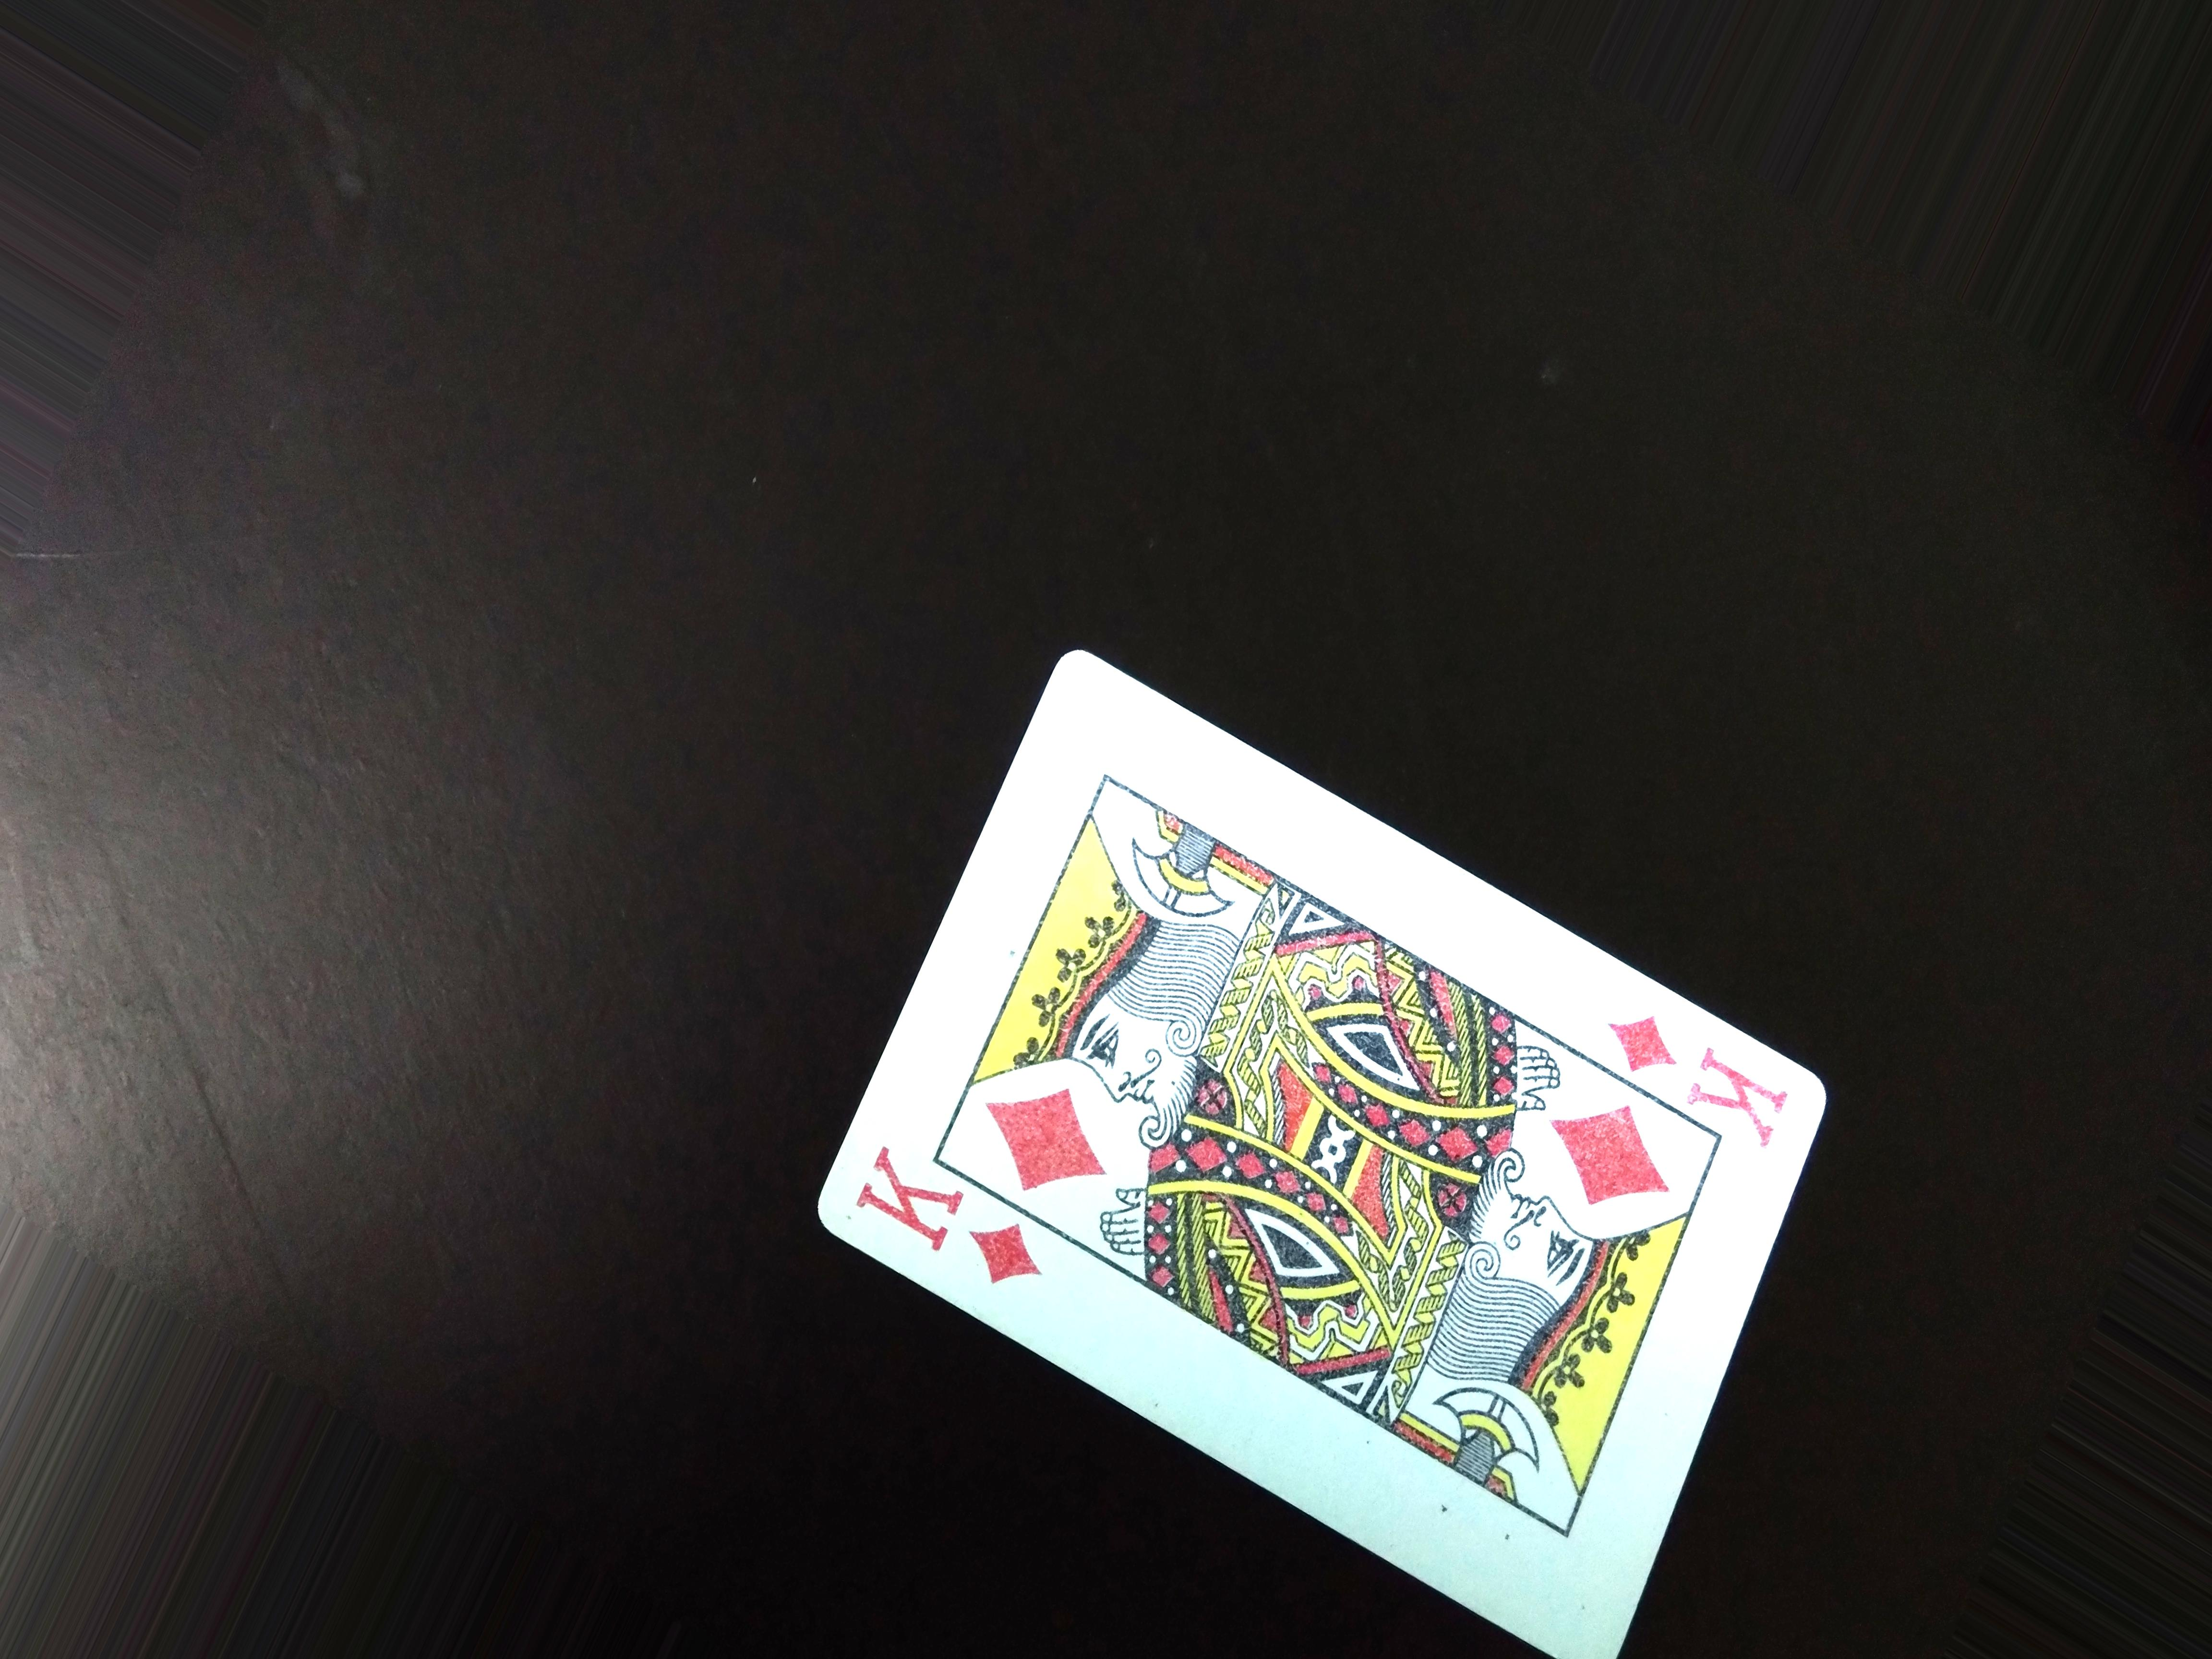KD: (1588, 1002, 1803, 1131)
